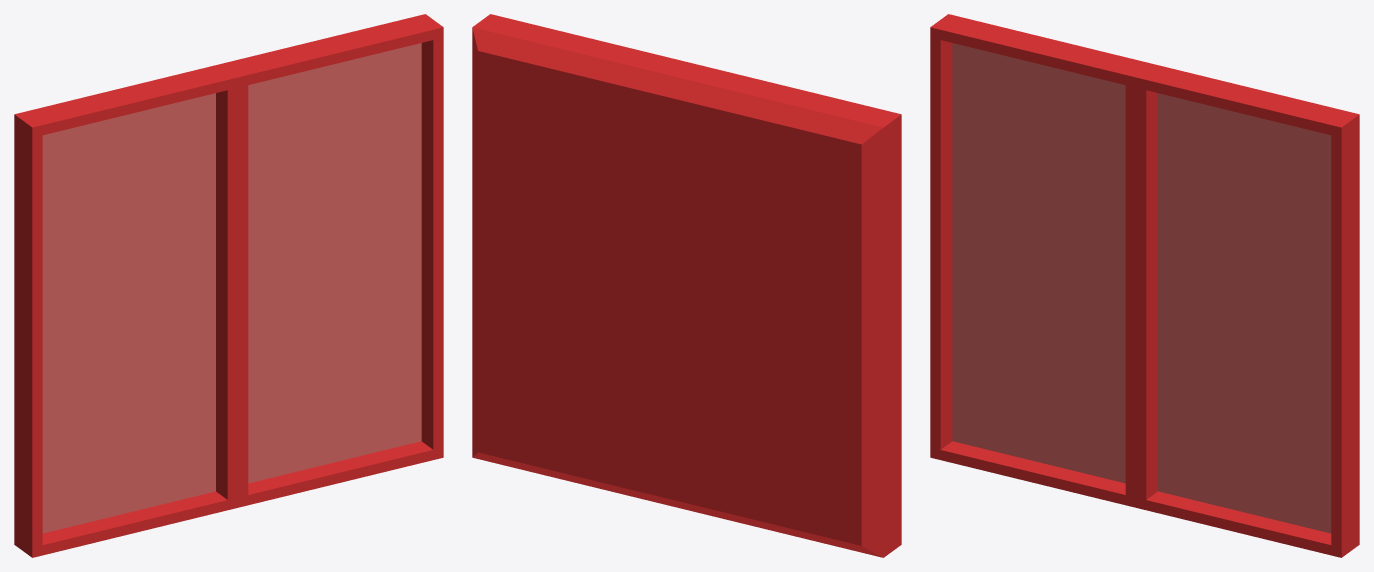
The model's file is Breaking Block.fbx.
3 views of the same model, side by side, from view 1: azimuth 30°, elevation 25°; view 2: azimuth 150°, elevation 25°; view 3: azimuth 330°, elevation 25° (orthographic).
Visible parts, largest first — view 1: Pad 2, Pad 1; view 2: Pad 2, Pad 1; view 3: Pad 1, Pad 2.
Boxes of the visible parts, bbox=[...] form: Pad 2: bbox=[14, 64, 237, 557]; Pad 1: bbox=[220, 14, 443, 507]; Pad 2: bbox=[670, 64, 901, 557]; Pad 1: bbox=[472, 14, 695, 507]; Pad 1: bbox=[1136, 64, 1359, 557]; Pad 2: bbox=[930, 14, 1153, 507].
Bounding box in the file's own units: 200 × 200 × 22.
